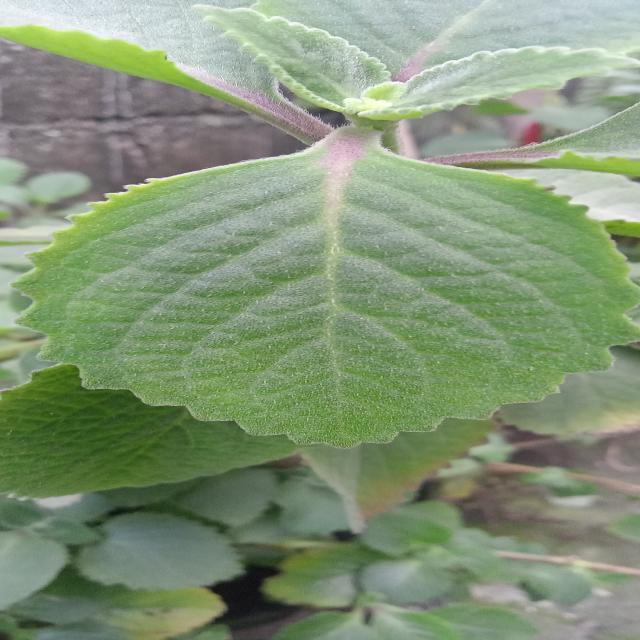Oregano: (1, 102, 640, 490)
